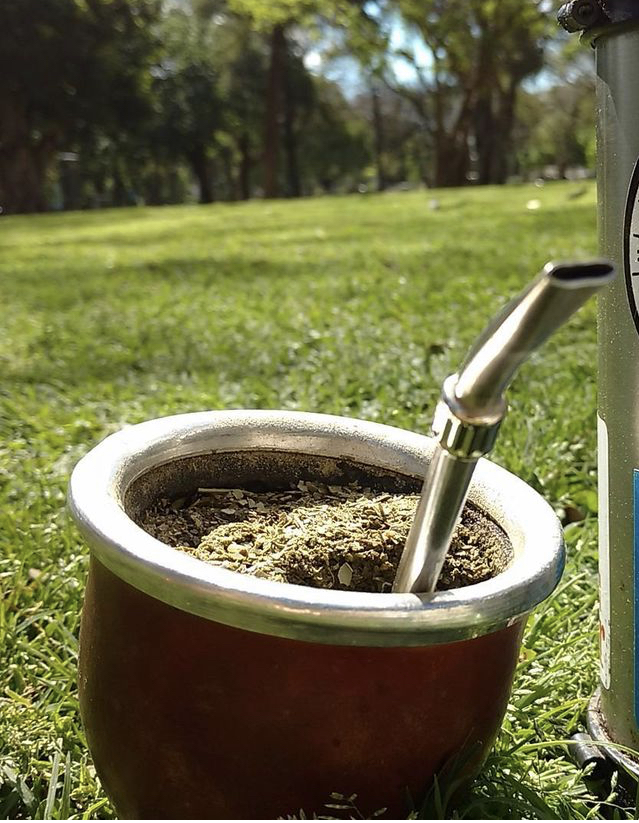calabaza: (67, 401, 568, 823)
mate: (52, 228, 621, 823)
